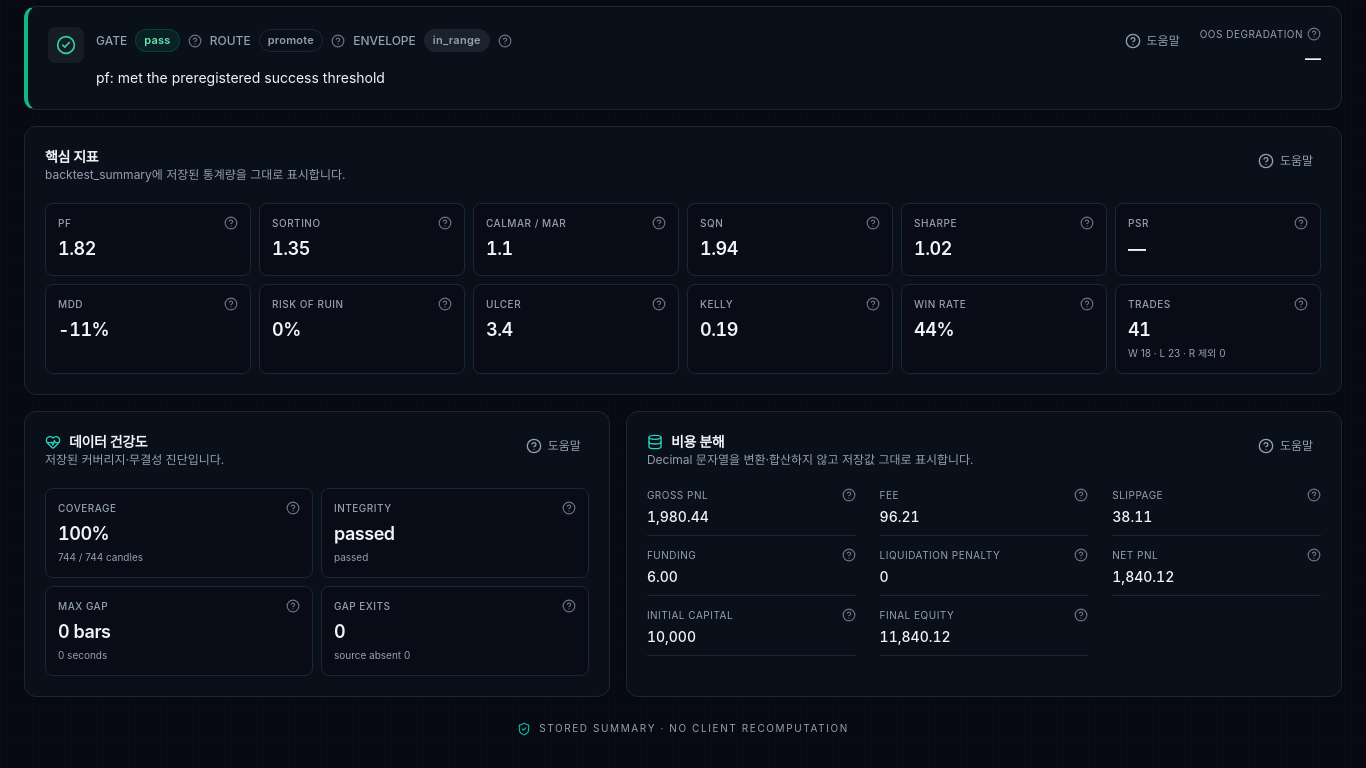
it: 백테스트 세부 정보 값 도움말 › 건강도와 비용은 각자의 도움말을 열고 지표 도움말과 섞이지 않는다
(page scrolled)
Click the button named "Coverage 설명 보기" at (293, 508), box [282,497,304,519]
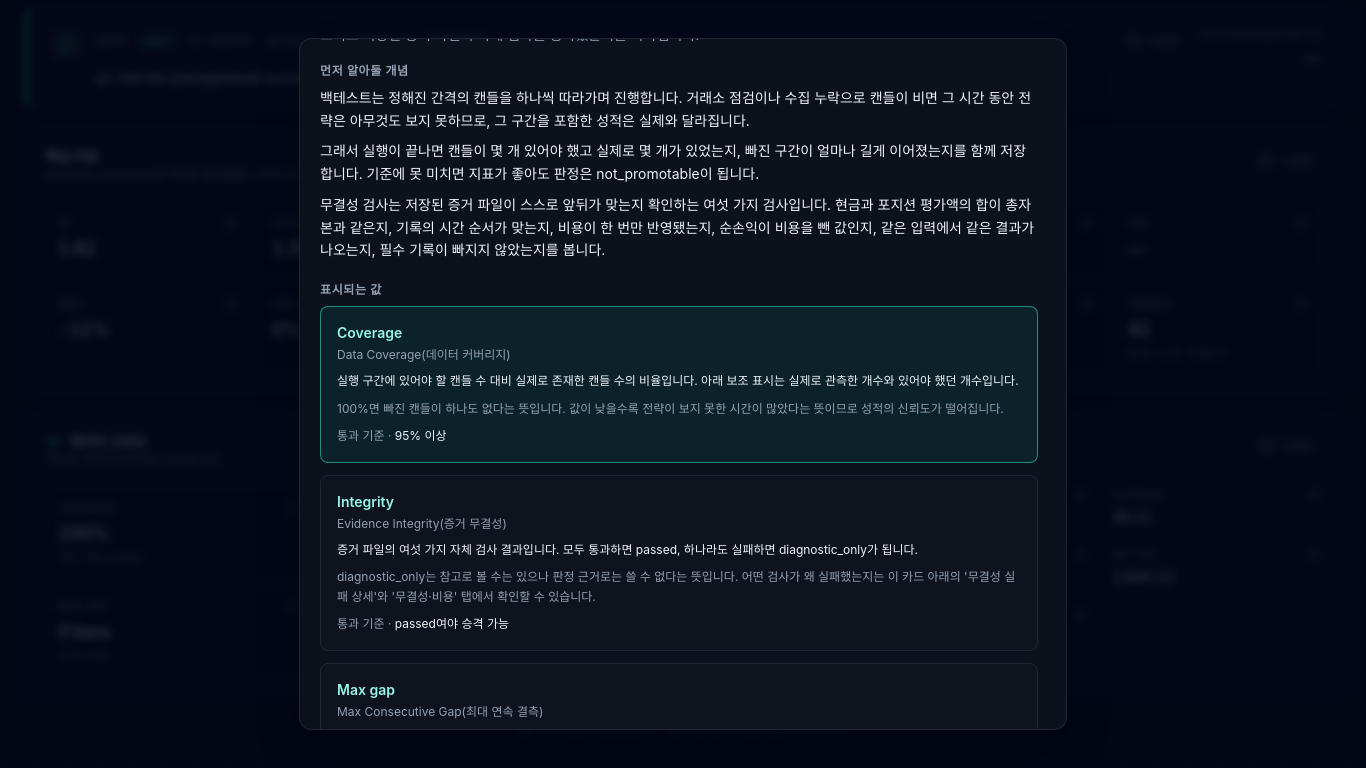
Expected: the text "95% 이상" is shown, [395,428,447,443]
Press Escape
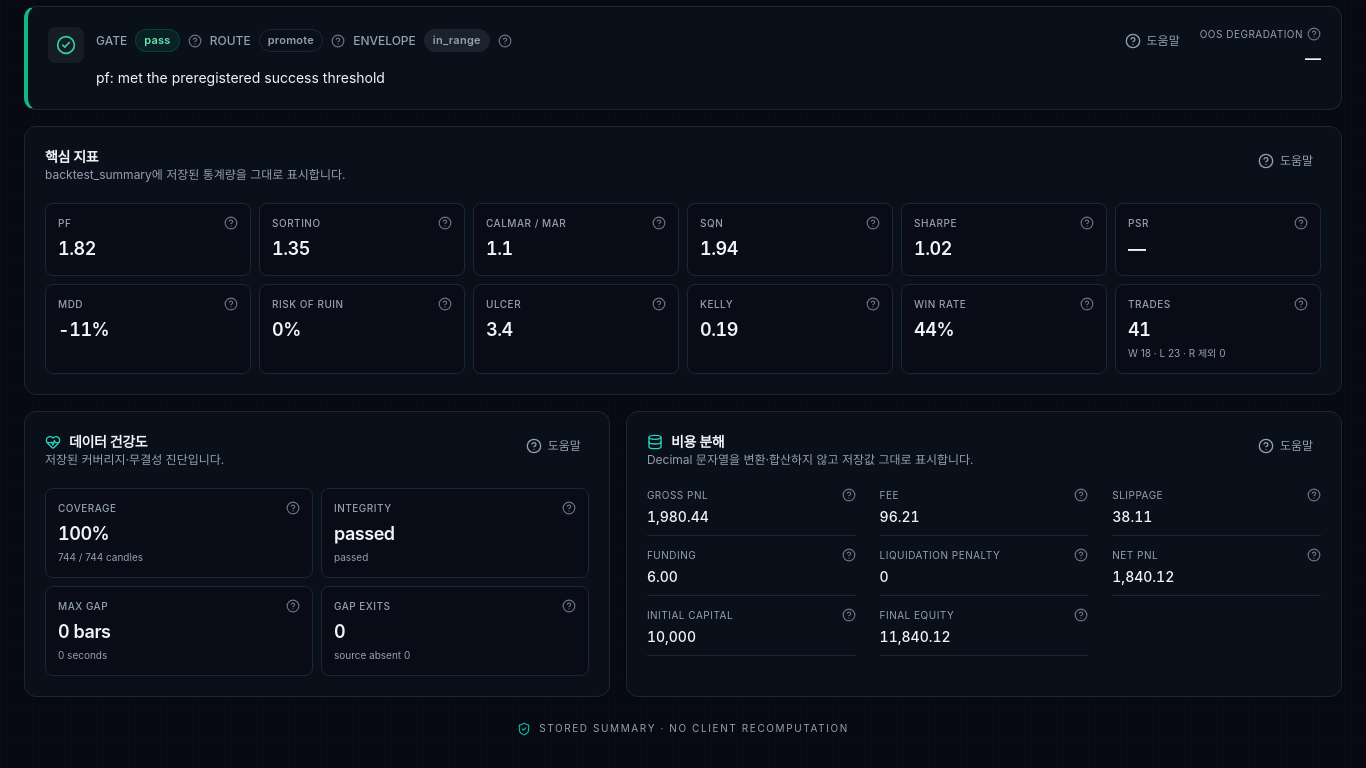
Click the button named "Funding 설명 보기" at (849, 555), box [838,544,860,566]
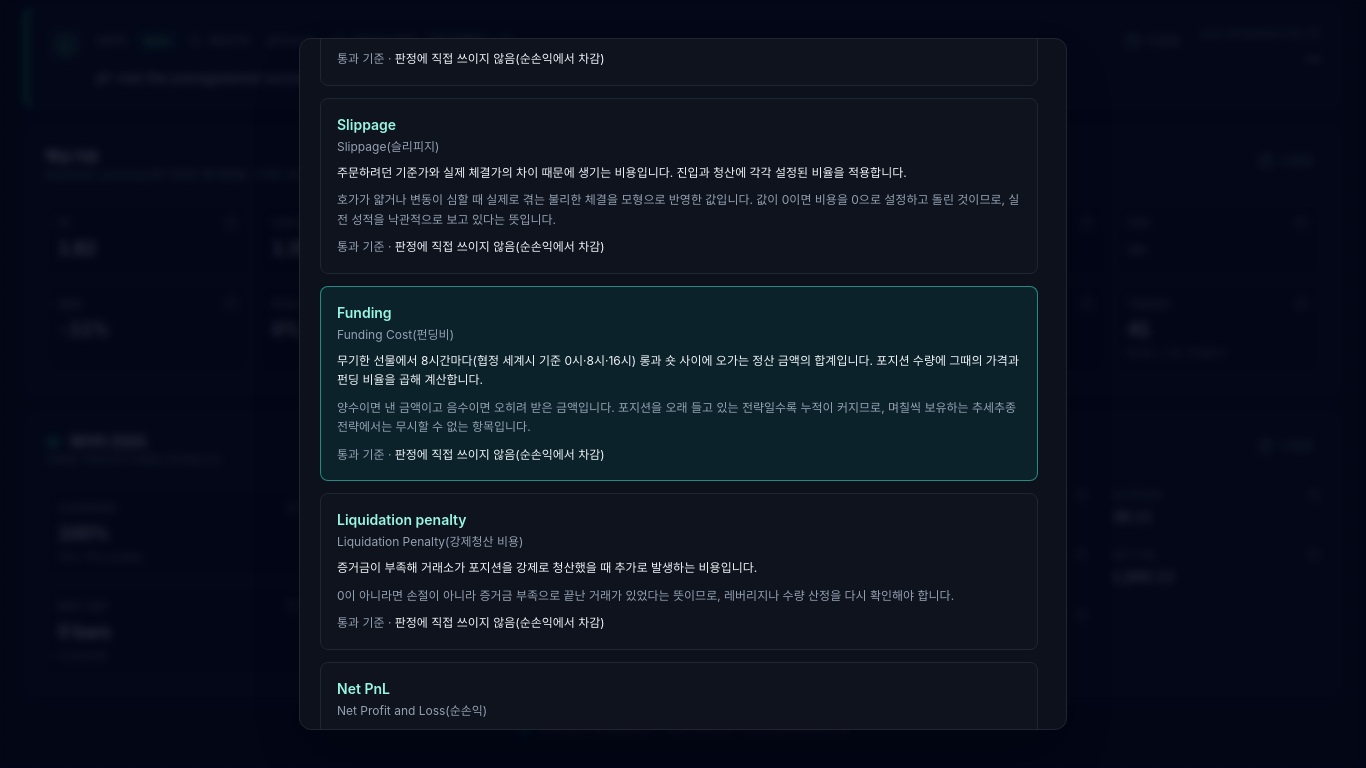
Expected: the element "Funding" shows "음수이면 오히려 받은 금액", [337,400,1016,434]
